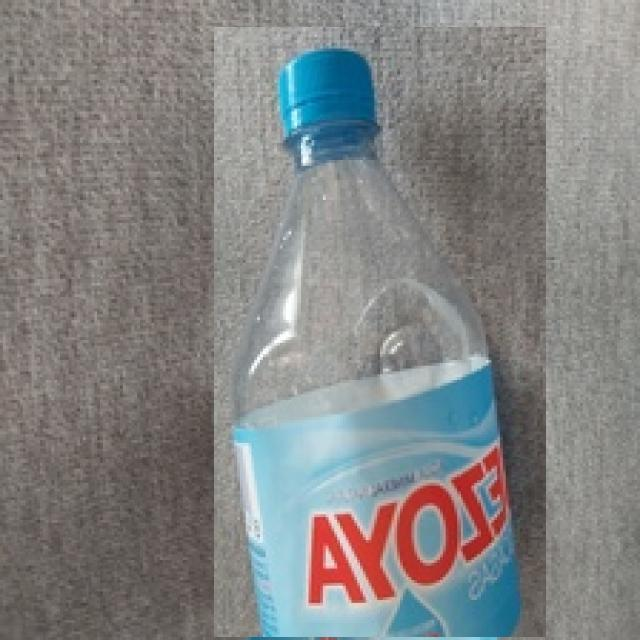good: (214, 27, 546, 637)
